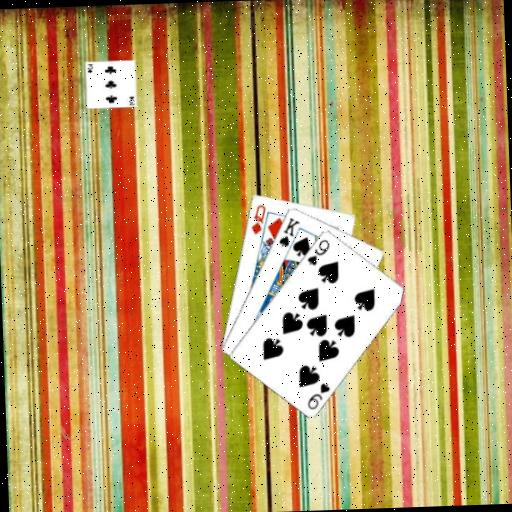9S: (303, 379, 332, 410), (303, 236, 331, 267)
KS: (274, 214, 301, 248)
QD: (246, 201, 267, 236)
